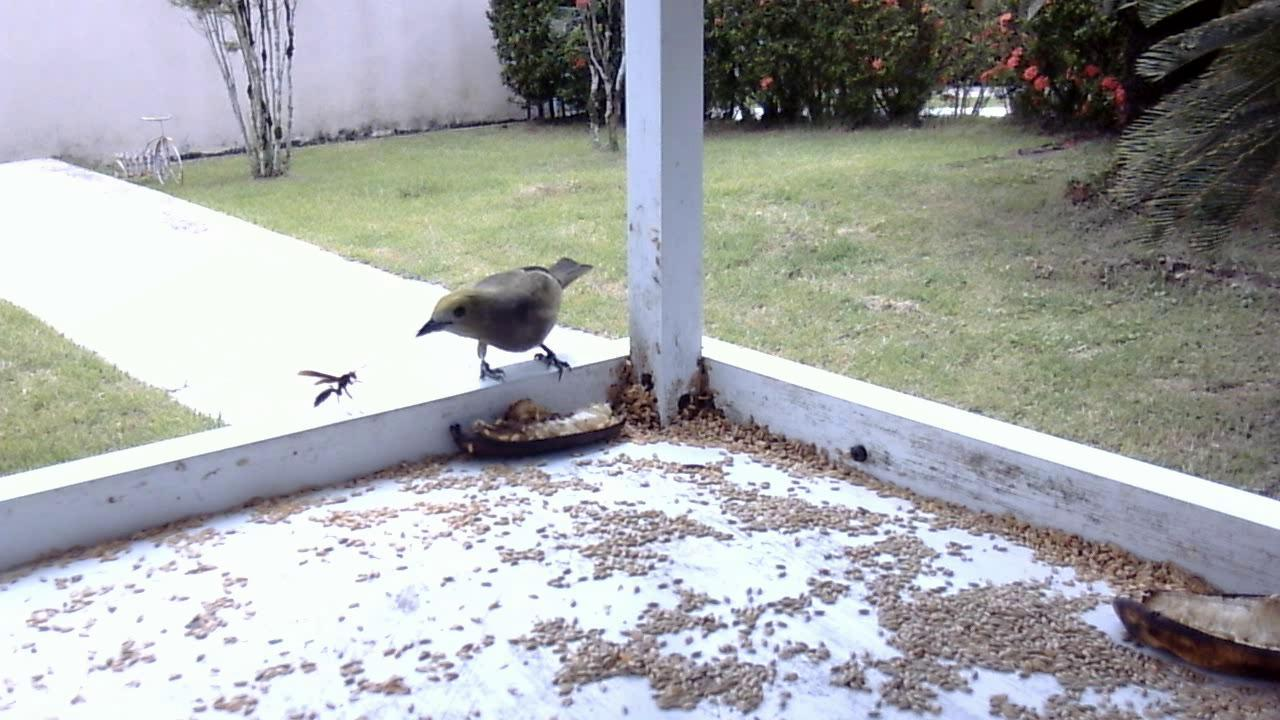sanhaco_do_coqueiro: (411, 250, 606, 398)
